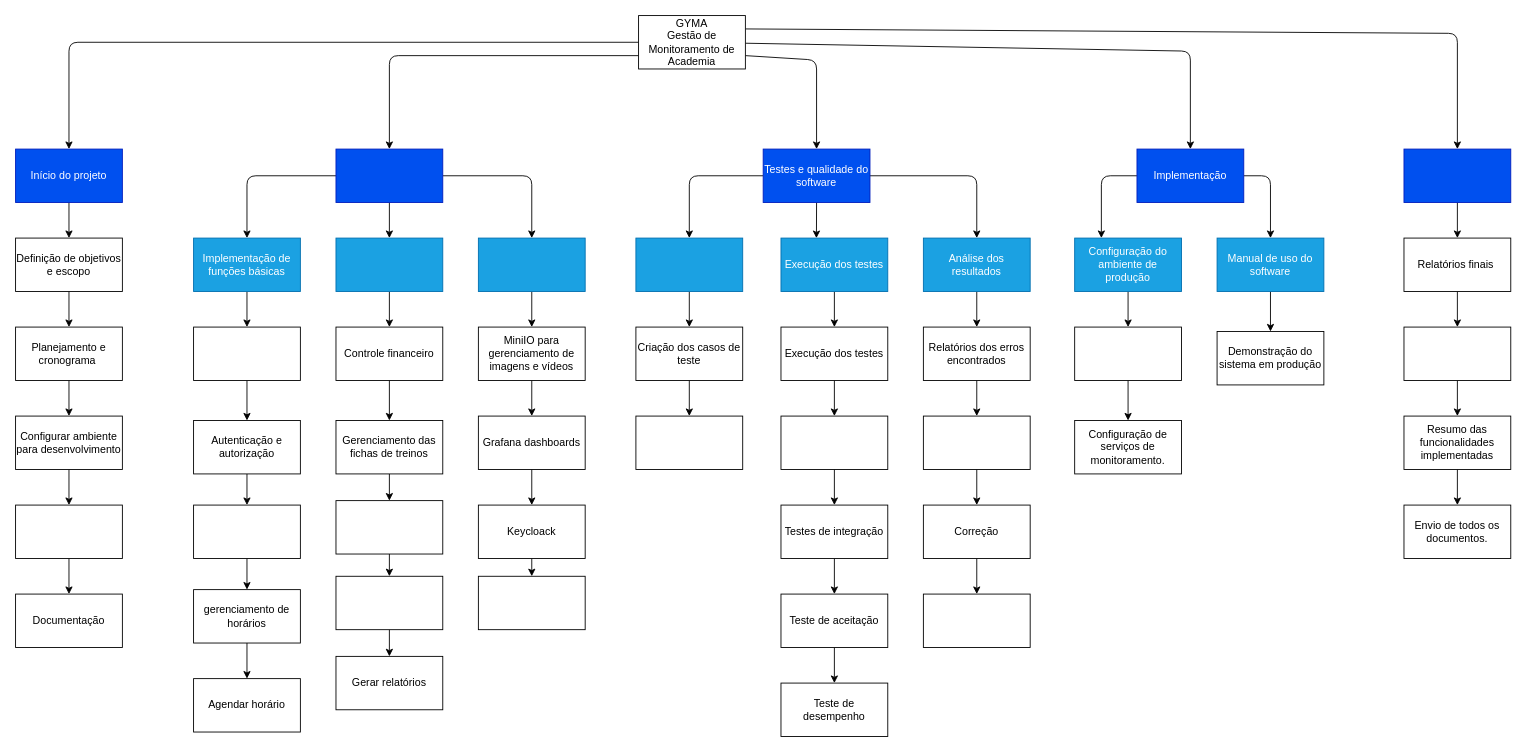
The diagram is 1526 pixels wide and 752 high, and some of its shapes have lost their labels. The centre of each missing label's shape, as x and y in pixels:
Análise dos dados obtidos( cobertura): point (976, 442)
Cadastro de usuários administradores: point (246, 531)
Configuração das ferramentas e do ambiente: point (689, 442)
Criação do Docker: point (246, 353)
Deploy da aplicação: point (1127, 353)
Desenvolvimento do sistema: point (389, 175)
Fechamento do projeto: point (1457, 175)
Funcionalidades avançadas: point (389, 264)
Gerenciamento de alunos: point (389, 527)
Gerenciamento de treinadores: point (389, 602)
Instalaçao e configuração de ferramentas: point (68, 531)
Integração de serviços: point (531, 264)
Planejamento dos testes: point (689, 264)
RabbitMQ: point (531, 602)
Relatórios de desempenho do sistema: point (1457, 353)
Teste de regressão: point (976, 620)
Testes unitários: point (834, 442)
